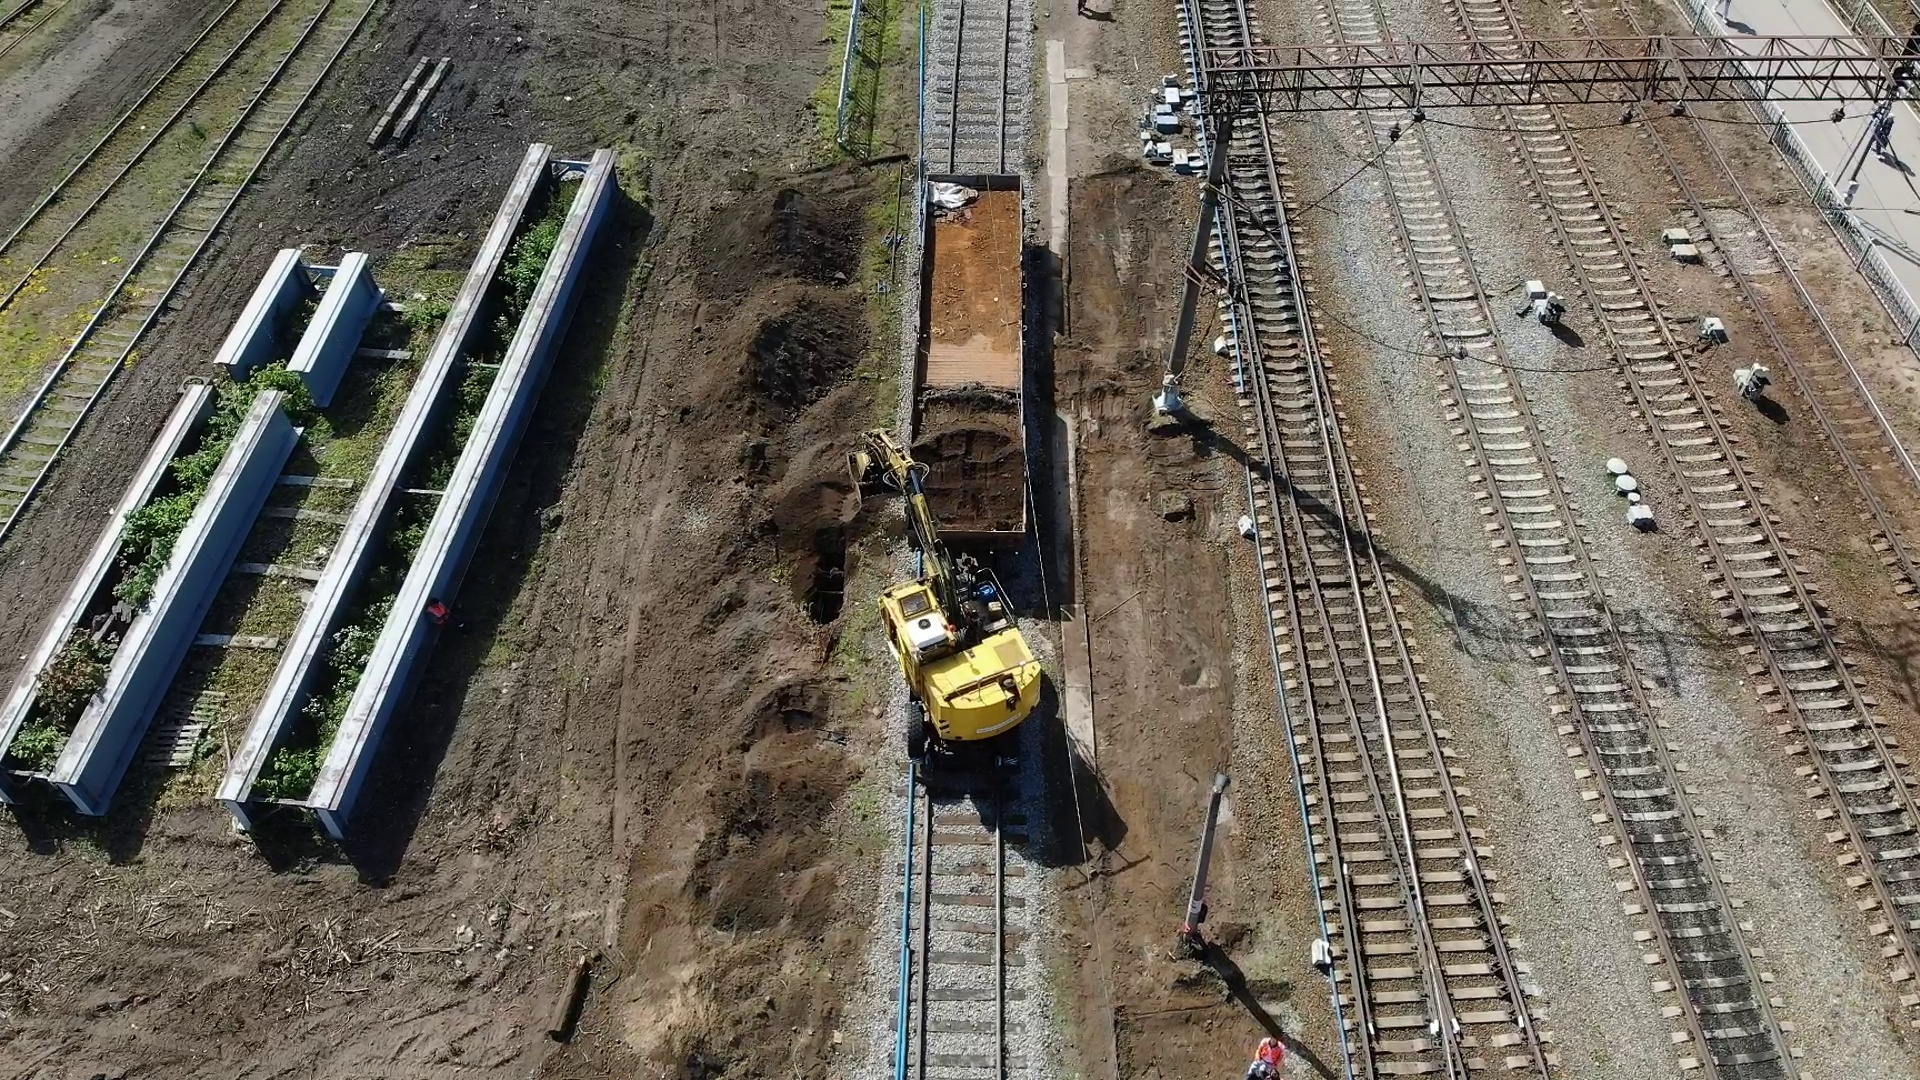kjtv: (872, 517, 1058, 781)
